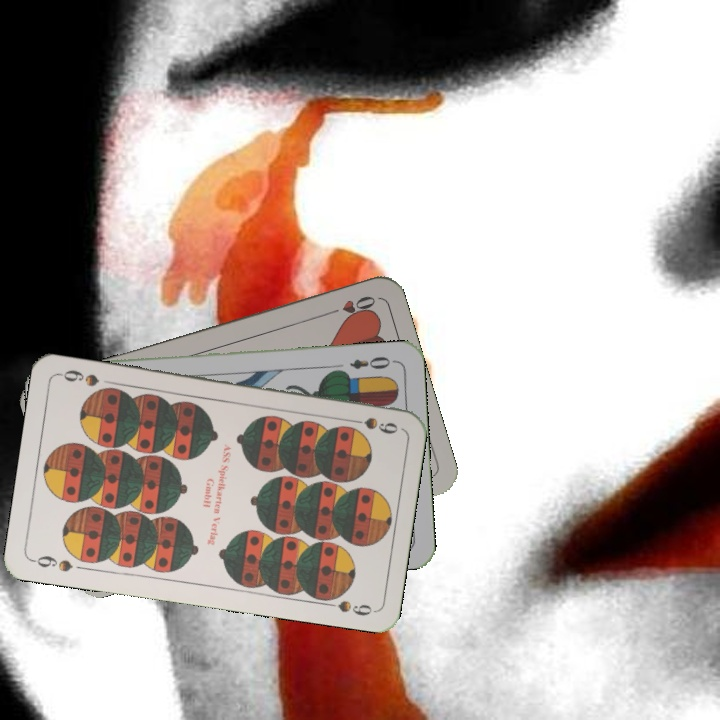EO: (346, 352, 398, 372)
HO: (321, 292, 378, 320)
S9: (342, 413, 401, 437), (28, 551, 75, 574)
